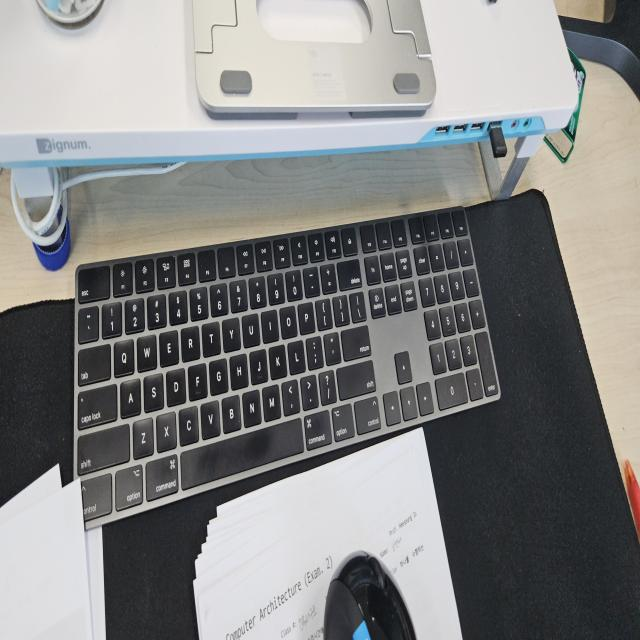Keyboard: (71, 203, 502, 529)
Mouse: (322, 546, 418, 638)
